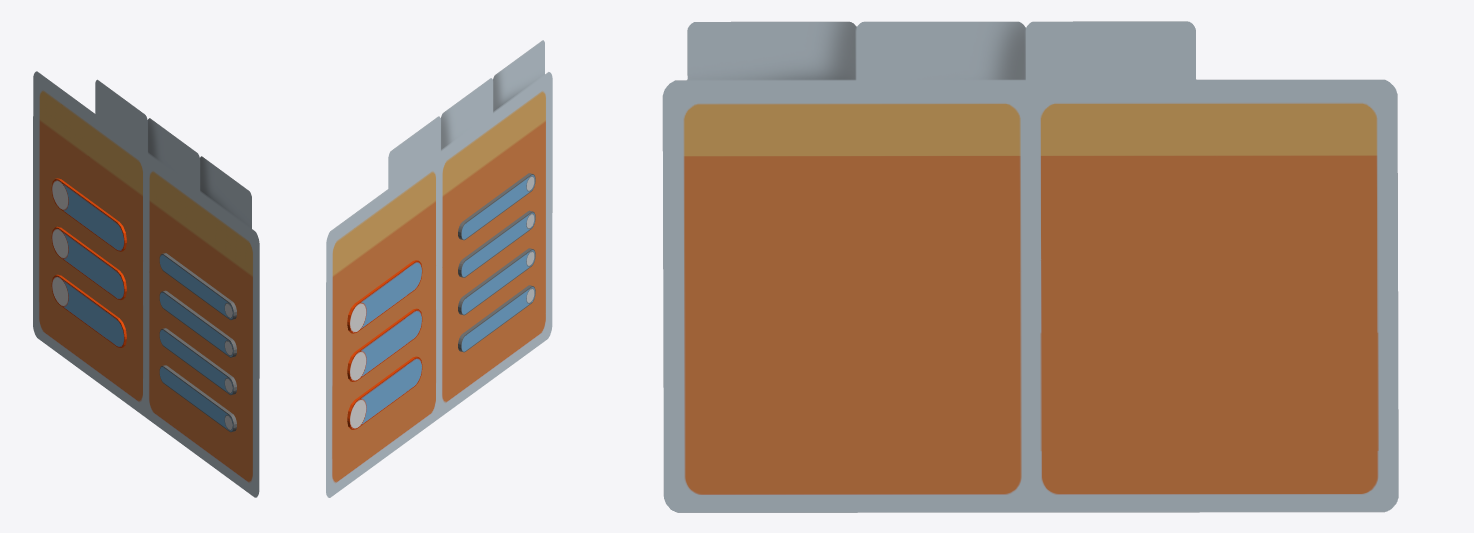
Rendered from Linechart_Settings_Tab.fbx.
3 renders of one model, left to right at view 1: azimuth 30°, elevation 25°; view 2: azimuth 150°, elevation 25°; view 3: azimuth 270°, elevation 25°, orthographic. The views are drawn at different scales.
Parts seen in each view (by area): view 1: menu_settings_tab, Blue_button_1, Blue_button_3, Blue_button_2, settings_drop_button2, settings_drop_button3, settings_drop_button1, settings_drop_button4; view 2: menu_settings_tab, Blue_button_1, Blue_button_2, Blue_button_3, settings_drop_button1, settings_drop_button3, settings_drop_button4, settings_drop_button2; view 3: menu_settings_tab.
Boxes of the visible parts, x1,y1,x2,y2 form: menu_settings_tab: (33,71,259,497); Blue_button_1: (51,178,126,251); Blue_button_3: (51,274,126,347); Blue_button_2: (51,226,126,299); settings_drop_button2: (159,290,236,357); settings_drop_button3: (159,328,236,395); settings_drop_button1: (159,253,236,319); settings_drop_button4: (159,365,236,432); menu_settings_tab: (326,40,552,497); Blue_button_1: (347,260,422,333); Blue_button_2: (347,308,422,381); Blue_button_3: (347,356,422,429); settings_drop_button1: (458,173,535,240); settings_drop_button3: (458,248,535,315); settings_drop_button4: (458,285,535,352); settings_drop_button2: (458,210,535,277); menu_settings_tab: (662,21,1398,512).
Bounding box in the file's own units: 0.1745 × 11.8 × 18.19.
Materials: 3 (3 with a texture image).
